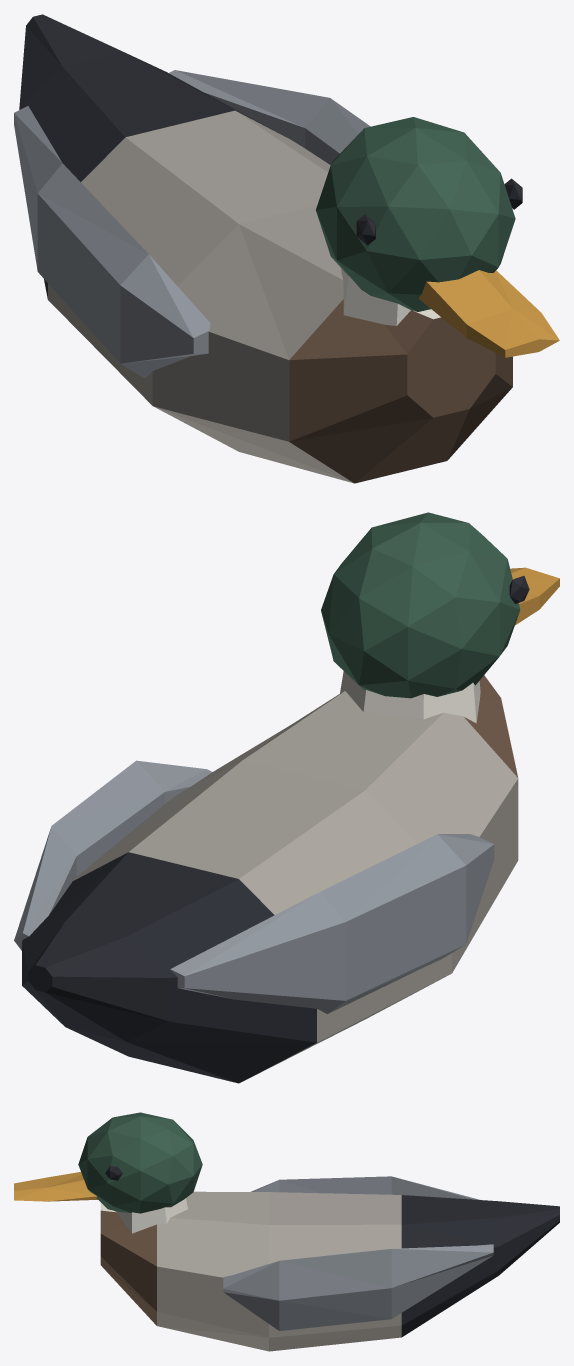
File: Duck_Drake.fbx
3 renders of one model, top to bottom at view 1: azimuth 30°, elevation 25°; view 2: azimuth 150°, elevation 25°; view 3: azimuth 270°, elevation 25°, orthographic. The views are drawn at different scales.
Parts seen in each view (by area): view 1: Duck_Drake_Body, Duck_Drake_Head; view 2: Duck_Drake_Body, Duck_Drake_Head; view 3: Duck_Drake_Body, Duck_Drake_Head.
Boxes of the visible parts, <box> form: Duck_Drake_Body: <box>14,14,512,483</box>; Duck_Drake_Head: <box>316,117,559,357</box>; Duck_Drake_Body: <box>14,671,518,1083</box>; Duck_Drake_Head: <box>321,512,559,698</box>; Duck_Drake_Body: <box>100,1176,559,1351</box>; Duck_Drake_Head: <box>14,1112,202,1213</box>.
Size of the model in its own units: 0.2169 by 0.535 by 0.2364.
